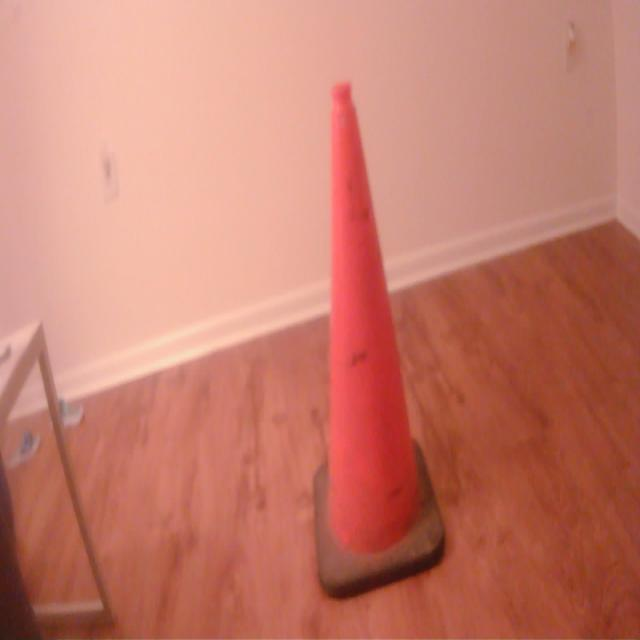traffic cone: (310, 73, 451, 608)
